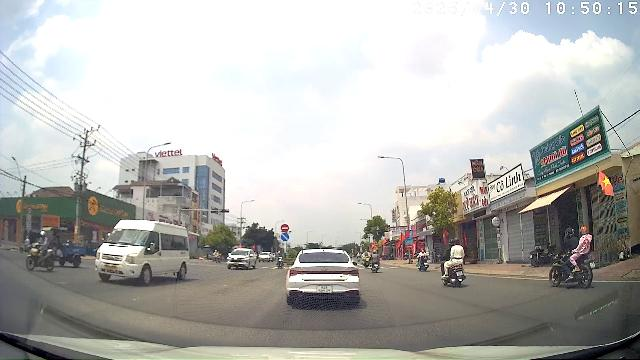102-cam-di-nguoc-chieu: (280, 224, 289, 232)
302a-huong-phai-di-vong-chuong-ngai-vat-1: (281, 233, 289, 241)
